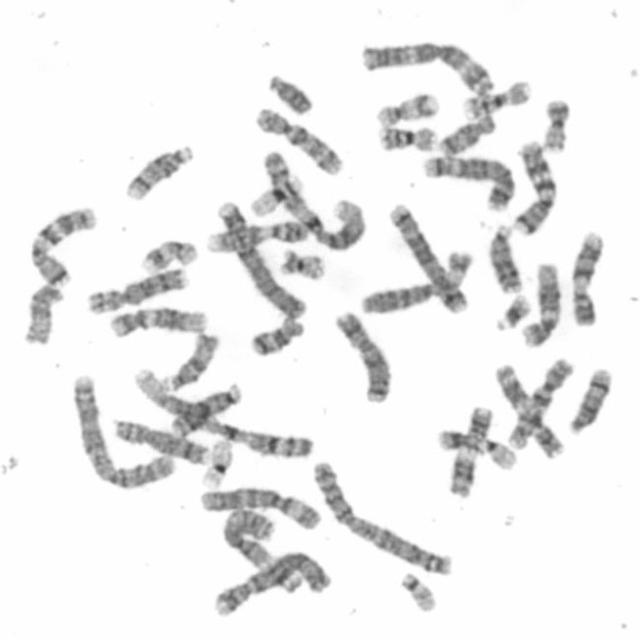A1: (130, 366, 316, 461), (260, 146, 367, 252)
A2: (308, 456, 455, 577), (69, 370, 177, 490)
A3: (354, 36, 497, 98), (218, 507, 306, 597)
B4: (212, 196, 308, 320), (208, 546, 334, 619)
B5: (386, 199, 471, 316), (419, 152, 517, 212)
C10: (502, 354, 576, 452), (252, 103, 346, 179)
C11: (491, 359, 568, 460), (443, 402, 496, 497)
C12: (517, 258, 562, 350), (105, 303, 210, 340)
C6: (355, 247, 475, 316), (195, 483, 324, 532)
C7: (24, 201, 100, 289), (508, 138, 558, 237)
C8: (82, 264, 190, 316), (108, 414, 210, 467)
C9: (202, 216, 312, 255), (567, 228, 608, 328)
D13: (167, 380, 245, 438), (483, 219, 524, 295)
D14: (121, 141, 197, 202), (565, 365, 615, 436)
D15: (156, 328, 223, 393), (20, 280, 66, 348)
E16: (458, 76, 534, 120), (375, 122, 438, 153)
E17: (372, 89, 442, 129), (137, 237, 200, 274)
E18: (435, 110, 499, 158), (245, 314, 306, 359)
F19: (245, 170, 307, 219), (197, 434, 236, 490)
F20: (538, 94, 572, 154), (277, 245, 327, 282)
G21: (490, 291, 532, 333), (434, 428, 469, 453)
G22: (397, 567, 440, 615), (476, 437, 519, 474)
X: (331, 307, 394, 406)
Y: (264, 70, 314, 117)
